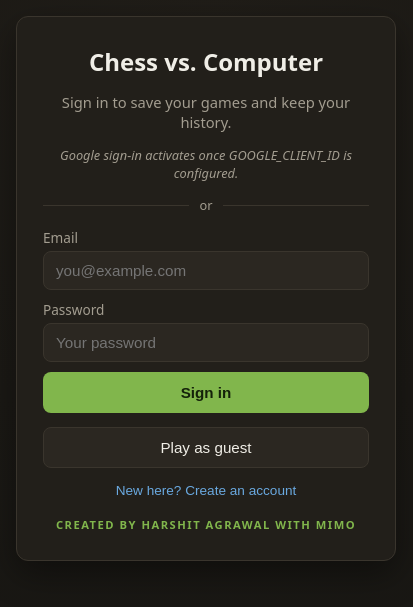
Scenario: LoginScreen › shows the server error when sign-in fails
This screenshot has width=413, height=607.
Step 1. Type "mia@example.com" into the field labelled "Email" → (206, 270), box [43, 251, 369, 290]
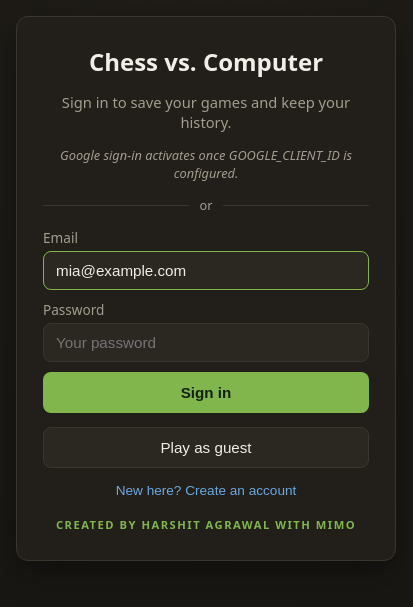
Step 2. Type "wrong-password" into the password field labelled "Password" → (206, 342), box [43, 323, 369, 362]
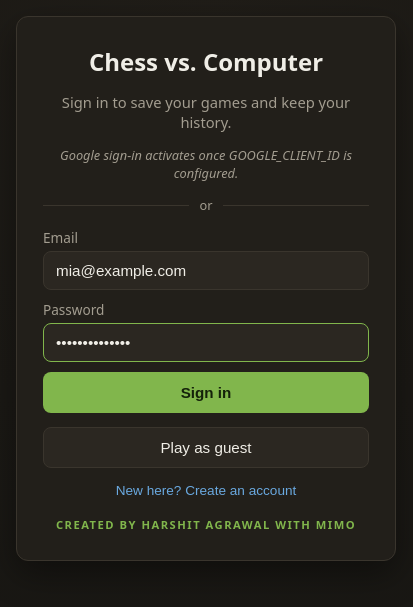
Step 3. Click the button "Sign in" → (206, 392), box [43, 372, 369, 413]
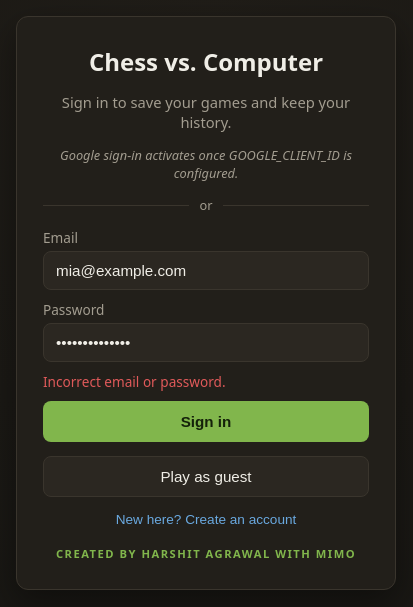
Expected: the message reads "Incorrect email or password.", [43, 372, 226, 391]
